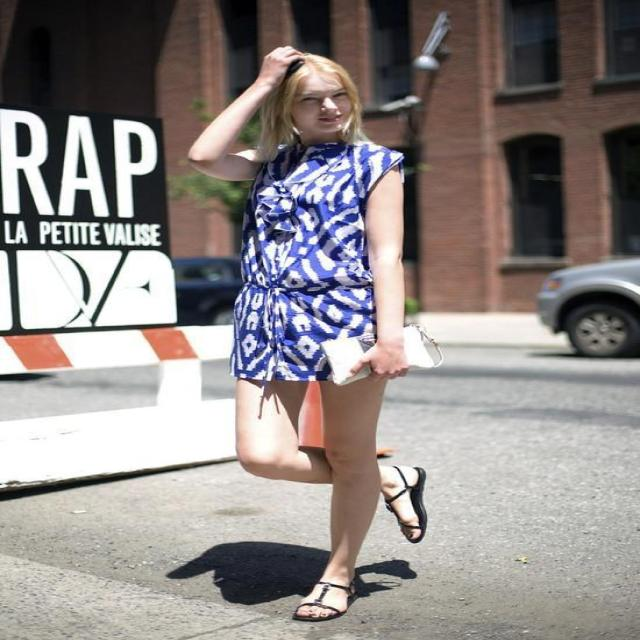dress: (229, 139, 404, 380)
